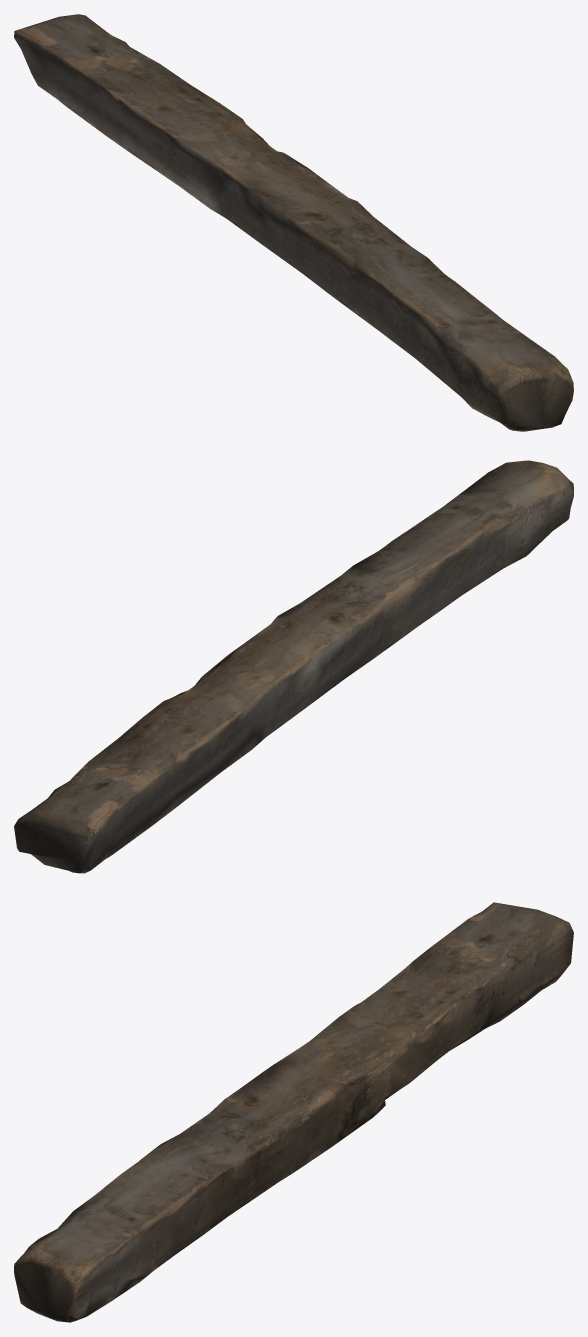
The model's file is Wooden_plank_v1_LOD2.fbx.
3 renders of one model, top to bottom at view 1: azimuth 30°, elevation 25°; view 2: azimuth 150°, elevation 25°; view 3: azimuth 330°, elevation 25°, orthographic.
Parts seen in each view (by area): view 1: Wooden_plnaksv1_LOD2; view 2: Wooden_plnaksv1_LOD2; view 3: Wooden_plnaksv1_LOD2.
Boxes of the visible parts, box(x1,y1,x2,y2) form: Wooden_plnaksv1_LOD2: box(14, 14, 573, 431); Wooden_plnaksv1_LOD2: box(14, 460, 573, 873); Wooden_plnaksv1_LOD2: box(14, 902, 573, 1322).
Bounding box in the file's own units: 9.38 × 7.16 × 98.21.
